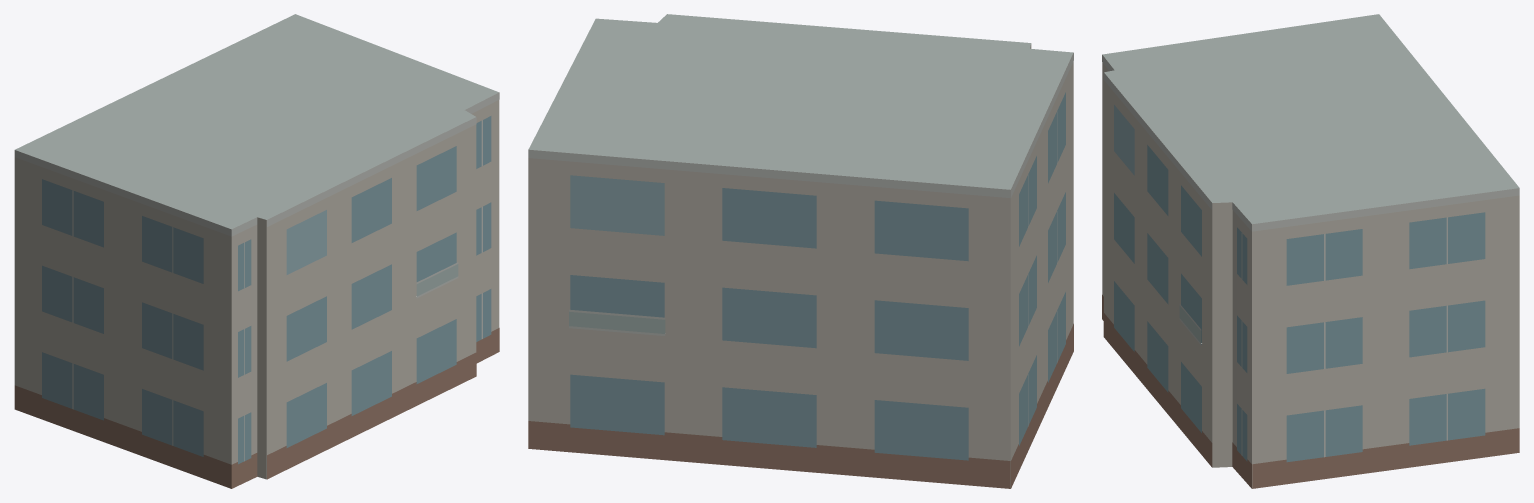
File: survey-upis-32991034.glb
3 renders of one model, left to right at view 1: azimuth 30°, elevation 25°; view 2: azimuth 150°, elevation 25°; view 3: azimuth 270°, elevation 25°, orthographic. The views are drawn at different scales.
Parts seen in each view (by area): view 1: survey-upis-32991034.tmp; view 2: survey-upis-32991034.tmp; view 3: survey-upis-32991034.tmp.
Boxes of the visible parts, box(x1,y1,x2,y2) form: survey-upis-32991034.tmp: box(14, 14, 499, 488); survey-upis-32991034.tmp: box(528, 14, 1073, 488); survey-upis-32991034.tmp: box(1102, 14, 1519, 488).
Size of the model in its own units: 14.83 by 8.7 by 12.45.
